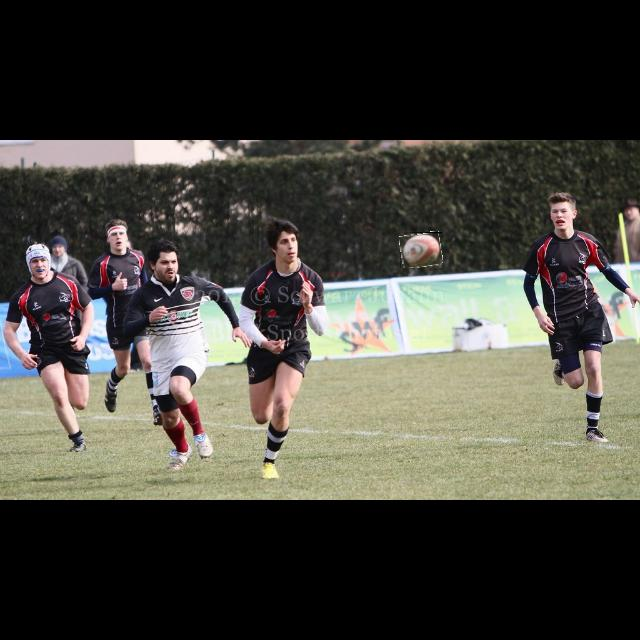Football: (400, 232, 442, 268)
